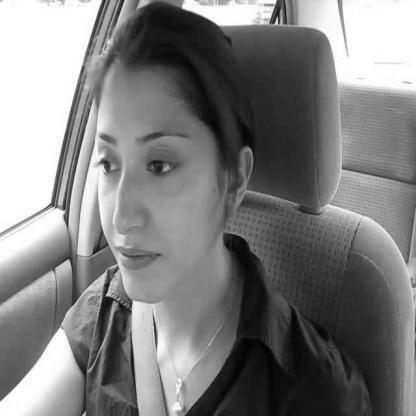seatbelt: (68, 4, 287, 416)
